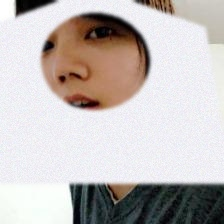Mukena: (0, 0, 207, 184)
